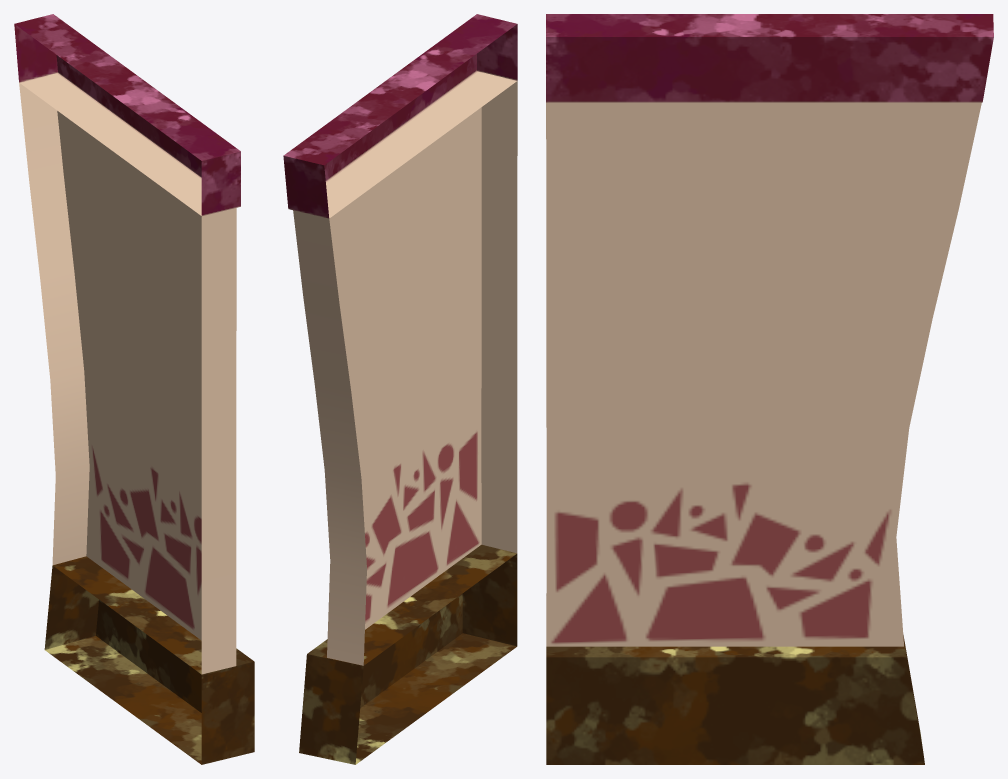
The model's file is pared curva.fbx.
The picture shows the model from 3 angles, left to right: view 1: azimuth 30°, elevation 25°; view 2: azimuth 150°, elevation 25°; view 3: azimuth 270°, elevation 25°; orthographic projection. The views are drawn at different scales.
Parts seen in each view (by area): view 1: Cube.113; view 2: Cube.113; view 3: Cube.113.
Boxes of the visible parts, x1,y1,x2,y2 form: Cube.113: (14,14,254,764); Cube.113: (283,14,517,764); Cube.113: (546,14,993,764).
Bounding box in the file's own units: 36.36 × 396 × 223.
